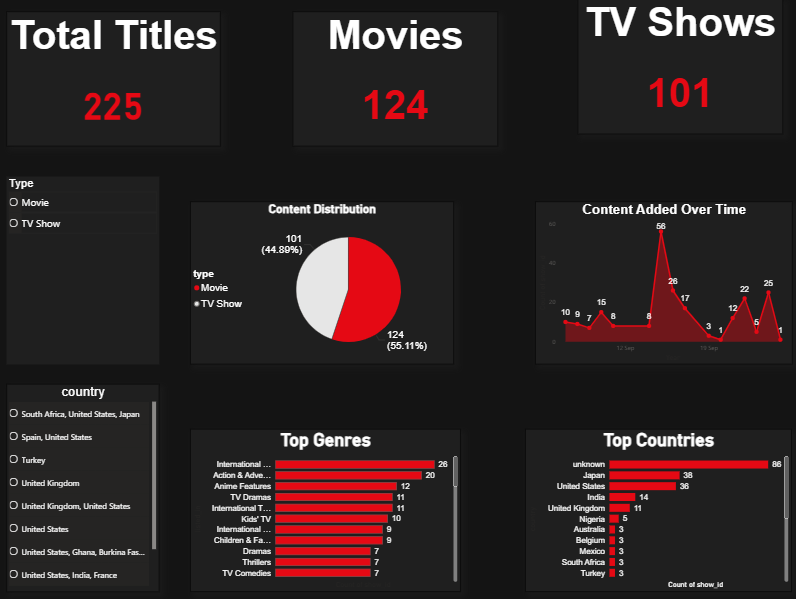

The dashboard page shown, as its layout file describes it:
{"tool":"powerbi","page":{"name":"Page 1","canvas":[1600,1200],"ordinal":0},"visuals":[{"type":"card","title":"Total Titles","fields":{"Values":["CountNonNull(netflix_clean.show_id)"]},"box":[16.1,26.1,428.3,269.4],"z":0},{"type":"card","title":"Movies","fields":{"Values":["CountNonNull(netflix_clean.type)"]},"box":[588.1,26.1,410.2,269.4],"z":1000},{"type":"card","title":"TV Shows","fields":{"Values":["CountNonNull(netflix_clean.type)"]},"box":[1158.2,0,410.2,270],"z":2000},{"type":"pieChart","title":"Content Distribution","fields":{"Category":["netflix_clean.type"],"Y":["CountNonNull(netflix_clean.show_id)"]},"box":[382,406.2,526.8,325.7],"z":3000},{"type":"lineChart","title":"Content Added Over Time","fields":{"Y":["CountNonNull(netflix_clean.show_id)"],"Category":["netflix_clean.date_added.Variation.Date Hierarchy.Year","netflix_clean.date_added.Variation.Date Hierarchy.Quarter","netflix_clean.date_added.Variation.Date Hierarchy.Month","netflix_clean.date_added.Variation.Date Hierarchy.Day"]},"box":[1071.7,406.2,514.7,325.7],"z":4000},{"type":"clusteredBarChart","title":"Top Genres","fields":{"Category":["netflix_clean.listed_in"],"Y":["CountNonNull(netflix_clean.show_id)"]},"box":[382,860.6,540.9,325.7],"z":5000},{"type":"clusteredBarChart","title":"Top Countries","fields":{"Y":["CountNonNull(netflix_clean.show_id)"],"Category":["netflix_clean.country"]},"box":[1053.6,860.6,532.8,325.7],"z":6000},{"type":"listSlicer","title":"Type","fields":{"Values":["netflix_clean.type"]},"box":[16.1,355.9,305.6,376],"z":7000},{"type":"listSlicer","title":"country","fields":{"Values":["netflix_clean.country"]},"box":[16.1,770.1,305.6,416.2],"z":7001}]}

Visuals, with their boxes in screenshot pixels (x1, y1, x2, y2), scaled from the page's 1600x1200 canvas onto the 796x599 screenshot:
"Total Titles" card: bbox=[8, 13, 221, 148]
"Movies" card: bbox=[293, 13, 497, 148]
"TV Shows" card: bbox=[576, 0, 780, 135]
"Content Distribution" pieChart: bbox=[190, 203, 452, 365]
"Content Added Over Time" lineChart: bbox=[533, 203, 789, 365]
"Top Genres" clusteredBarChart: bbox=[190, 430, 459, 592]
"Top Countries" clusteredBarChart: bbox=[524, 430, 789, 592]
"Type" listSlicer: bbox=[8, 178, 160, 365]
"country" listSlicer: bbox=[8, 384, 160, 592]
